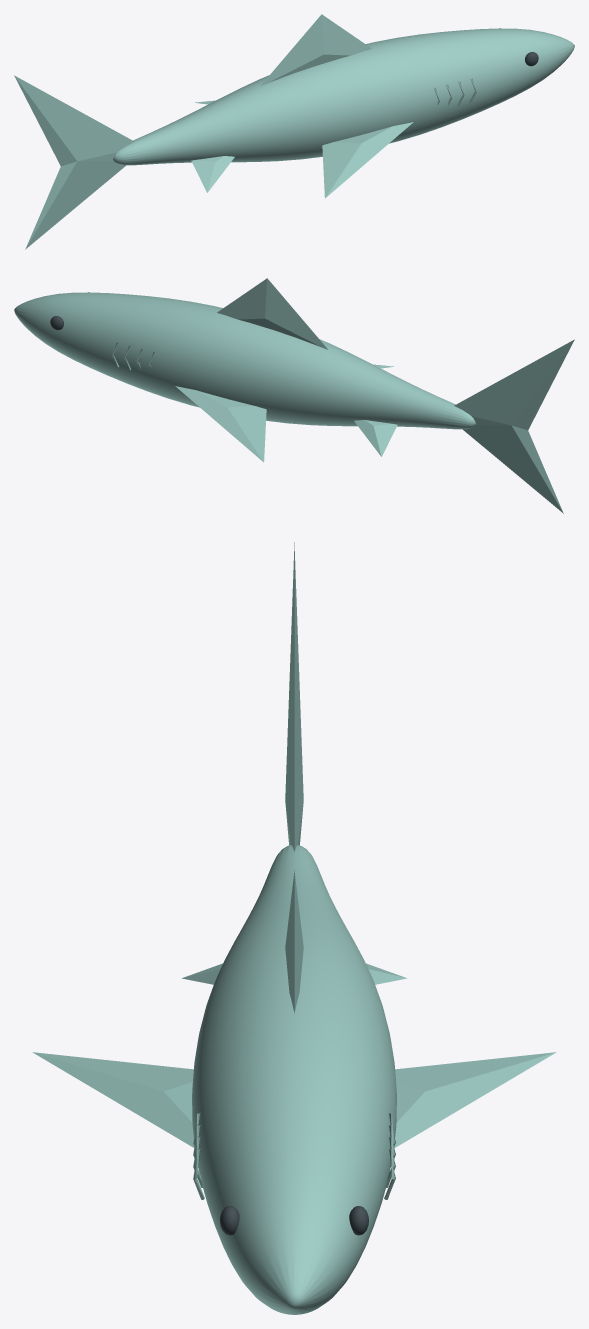
The picture shows the model from 3 angles, top to bottom: view 1: azimuth 30°, elevation 25°; view 2: azimuth 150°, elevation 25°; view 3: azimuth 270°, elevation 25°; orthographic projection. The views are drawn at different scales.
Visible parts, largest first — view 1: Body, Tail, Dorsal, Pectoral, Pelvic; view 2: Body, Tail, Dorsal, Pectoral.001, Pelvic.001; view 3: Body, Pectoral, Pectoral.001, Tail, Dorsal.
Part boxes in pixels (x1,y1,x2,y2): Body: (113,28,574,165); Tail: (14,75,134,249); Dorsal: (261,14,371,85); Pectoral: (322,122,413,198); Pelvic: (191,156,234,192); Body: (14,292,475,429); Tail: (454,339,574,513); Dorsal: (217,278,327,349); Pectoral.001: (175,386,266,462); Pelvic.001: (354,420,397,456); Body: (192,845,396,1314); Pectoral: (32,1052,194,1147); Pectoral.001: (394,1052,556,1147); Tail: (285,542,303,851); Dorsal: (285,870,303,1013).
Bounding box in the file's own units: 252 × 76 × 102.
